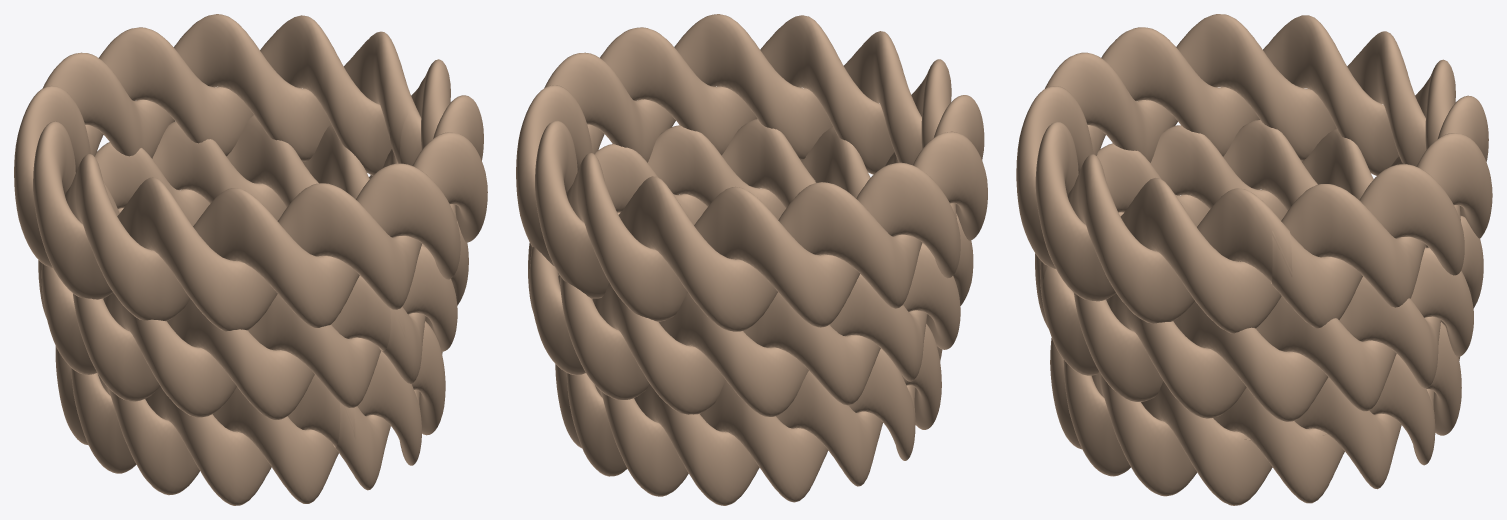
Rendered from basket.fbx.
3 renders of one model, left to right at view 1: azimuth 30°, elevation 25°; view 2: azimuth 150°, elevation 25°; view 3: azimuth 270°, elevation 25°, orthographic.
Visible parts, largest first — view 1: cesto_bo; view 2: cesto_bo; view 3: cesto_bo.
Part boxes in pixels (x1,y1,x2,y2): cesto_bo: (14,14,487,505); cesto_bo: (516,14,987,505); cesto_bo: (1016,14,1492,505).
Size of the model in its own units: 101 by 77.37 by 101.
